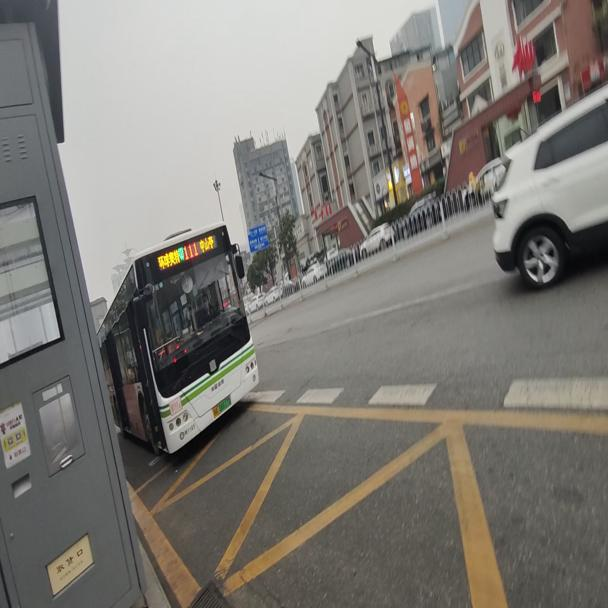bus: (96, 216, 261, 454)
screen: (180, 238, 198, 262)
